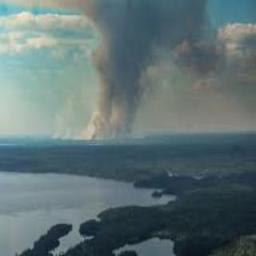Heavy smoke: (74, 0, 225, 140)
